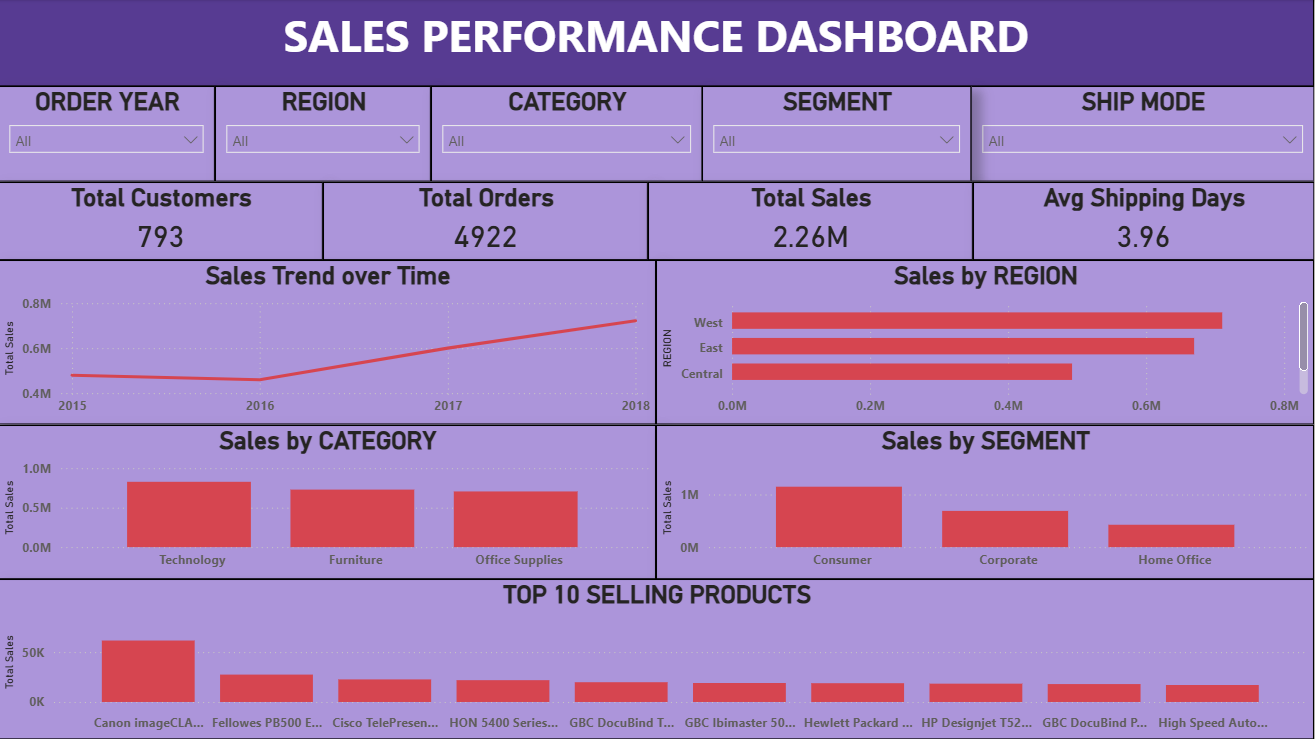

The page's visual inventory and layout, read from the dashboard file:
{"tool":"powerbi","page":{"name":"Page 1","canvas":[1280,720],"ordinal":0},"visuals":[{"type":"textbox","box":[0,0,1280,84.6],"z":0},{"type":"slicer","title":"ORDER YEAR","fields":{"Values":["V_SALES_ANALYTICS.ORDER_YEAR"]},"box":[0,84.6,211.1,93.4],"z":1000},{"type":"slicer","title":"REGION","fields":{"Values":["V_SALES_ANALYTICS.REGION"]},"box":[211.1,84.6,210.1,93.4],"z":2000},{"type":"slicer","title":"CATEGORY","fields":{"Values":["V_SALES_ANALYTICS.CATEGORY"]},"box":[421.2,84.6,263.6,93.4],"z":3000},{"type":"slicer","title":"SHIP MODE","fields":{"Values":["V_SALES_ANALYTICS.SHIP_MODE"]},"box":[946.4,84.6,333.6,93.4],"z":4000},{"type":"slicer","title":"SEGMENT","fields":{"Values":["V_SALES_ANALYTICS.SEGMENT"]},"box":[684.7,84.6,261.6,93.4],"z":5000},{"type":"card","title":"Total Customers","fields":{"Values":["V_SALES_ANALYTICS.Total Customers"]},"box":[0,178,316.1,75.9],"z":6000},{"type":"card","title":"Total Orders","fields":{"Values":["V_SALES_ANALYTICS.Total Orders"]},"box":[316.1,178,316.1,75.9],"z":7000},{"type":"card","title":"Total Sales","fields":{"Values":["V_SALES_ANALYTICS.Total Sales"]},"box":[632.2,178,316.1,75.9],"z":8000},{"type":"card","title":"Avg Shipping Days","fields":{"Values":["V_SALES_ANALYTICS.Avg Shipping Days"]},"box":[948.3,178,331.7,75.9],"z":9000},{"type":"lineChart","title":"Sales Trend over Time","fields":{"Category":["V_SALES_ANALYTICS.ORDER_DATE.Variation.Date Hierarchy.Year","V_SALES_ANALYTICS.ORDER_DATE.Variation.Date Hierarchy.Quarter","V_SALES_ANALYTICS.ORDER_DATE.Variation.Date Hierarchy.Month","V_SALES_ANALYTICS.ORDER_DATE.Variation.Date Hierarchy.Day"],"Y":["V_SALES_ANALYTICS.Total Sales"]},"box":[0,253.9,640,160.5],"z":9001},{"type":"barChart","title":"Sales by REGION","fields":{"Category":["V_SALES_ANALYTICS.REGION"],"Y":["V_SALES_ANALYTICS.Total Sales"]},"box":[640,253.9,640,160.5],"z":9002},{"type":"columnChart","title":"Sales by CATEGORY","fields":{"Category":["V_SALES_ANALYTICS.CATEGORY"],"Y":["V_SALES_ANALYTICS.Total Sales"]},"box":[0,414.3,640,149.8],"z":9003},{"type":"columnChart","title":"Sales by SEGMENT","fields":{"Category":["V_SALES_ANALYTICS.SEGMENT"],"Y":["V_SALES_ANALYTICS.Total Sales"]},"box":[640,414.3,640,149.8],"z":9004},{"type":"columnChart","title":"TOP 10 SELLING PRODUCTS","fields":{"Category":["V_SALES_ANALYTICS.PRODUCT_NAME"],"Y":["V_SALES_ANALYTICS.Total Sales"]},"box":[0,564.1,1280,155.6],"z":9005}]}

Visuals, with their boxes in screenshot pixels (x1, y1, x2, y2), scaled from the page's 1280x720 canvas onto the 1315x739 screenshot:
textbox: [left=0, top=0, right=1314, bottom=87]
"ORDER YEAR" slicer: [left=0, top=87, right=217, bottom=183]
"REGION" slicer: [left=217, top=87, right=433, bottom=183]
"CATEGORY" slicer: [left=433, top=87, right=704, bottom=183]
"SHIP MODE" slicer: [left=972, top=87, right=1314, bottom=183]
"SEGMENT" slicer: [left=703, top=87, right=972, bottom=183]
"Total Customers" card: [left=0, top=183, right=325, bottom=261]
"Total Orders" card: [left=325, top=183, right=649, bottom=261]
"Total Sales" card: [left=649, top=183, right=974, bottom=261]
"Avg Shipping Days" card: [left=974, top=183, right=1314, bottom=261]
"Sales Trend over Time" lineChart: [left=0, top=261, right=658, bottom=425]
"Sales by REGION" barChart: [left=658, top=261, right=1314, bottom=425]
"Sales by CATEGORY" columnChart: [left=0, top=425, right=658, bottom=579]
"Sales by SEGMENT" columnChart: [left=658, top=425, right=1314, bottom=579]
"TOP 10 SELLING PRODUCTS" columnChart: [left=0, top=579, right=1314, bottom=738]
